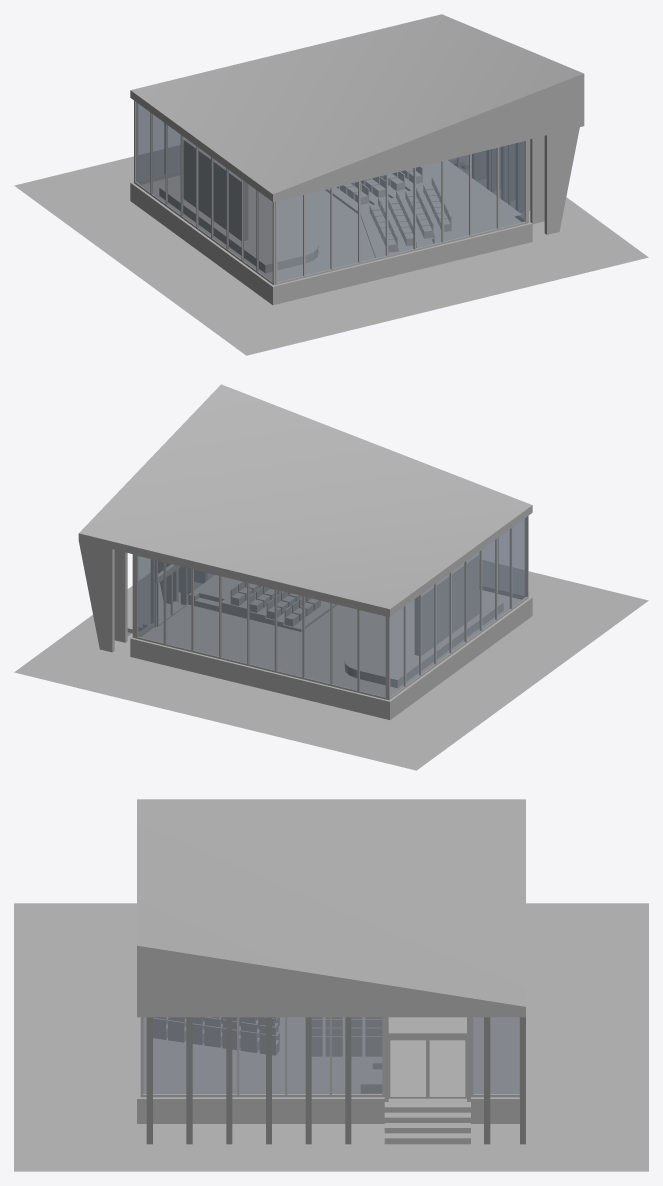
Rendered from LiveTeachExampleClassRoom.glb.
The picture shows the model from 3 angles, top to bottom: view 1: azimuth 30°, elevation 25°; view 2: azimuth 150°, elevation 25°; view 3: azimuth 270°, elevation 25°; orthographic projection. The views are drawn at different scales.
Visible parts, largest first — view 1: pCube185, pPlane1, TeachingRoomExampleGlass, polySurface879, TeachingRoomExampleWindowFrames, pCube194, TeachingRoomExampleSeatingStage, TeachingRoomExampleStage, TeachingRoomExampleScreen; view 2: pCube185, pPlane1, TeachingRoomExampleGlass, polySurface879, TeachingRoomExampleWindowFrames, pCube194, TeachingRoomExampleStage, TeachingRoomExampleScreen, TeachingRoomExampleSeatingStage, pCube184; view 3: pCube185, pPlane1, TeachingRoomExampleGlass, polySurface879, TeachingRoomExampleSeatingStage, pCube194, pCube173, TeachingRoomExampleWindowFrames, pCube184.
Boxes of the visible parts, bbox=[...] form: pCube185: bbox=[130, 14, 584, 201]; pPlane1: bbox=[14, 145, 648, 355]; TeachingRoomExampleGlass: bbox=[135, 102, 525, 281]; polySurface879: bbox=[130, 172, 532, 305]; TeachingRoomExampleWindowFrames: bbox=[134, 100, 528, 285]; pCube194: bbox=[472, 127, 579, 234]; TeachingRoomExampleSeatingStage: bbox=[325, 160, 521, 257]; TeachingRoomExampleStage: bbox=[159, 182, 318, 273]; TeachingRoomExampleScreen: bbox=[183, 139, 248, 240]; pCube185: bbox=[78, 384, 532, 616]; pPlane1: bbox=[14, 560, 648, 770]; TeachingRoomExampleGlass: bbox=[137, 517, 527, 696]; polySurface879: bbox=[130, 587, 532, 719]; TeachingRoomExampleWindowFrames: bbox=[132, 516, 528, 700]; pCube194: bbox=[79, 541, 207, 652]; TeachingRoomExampleStage: bbox=[344, 597, 503, 688]; TeachingRoomExampleScreen: bbox=[414, 554, 479, 655]; TeachingRoomExampleSeatingStage: bbox=[188, 575, 337, 631]; pCube184: bbox=[151, 559, 187, 627]; pCube185: bbox=[137, 799, 525, 1017]; pPlane1: bbox=[14, 903, 648, 1171]; TeachingRoomExampleGlass: bbox=[143, 1017, 519, 1094]; polySurface879: bbox=[137, 1017, 519, 1123]; TeachingRoomExampleSeatingStage: bbox=[153, 1019, 382, 1093]; pCube194: bbox=[146, 1017, 525, 1144]; pCube173: bbox=[384, 1102, 470, 1144]; TeachingRoomExampleWindowFrames: bbox=[140, 1017, 519, 1098]; pCube184: bbox=[384, 1017, 470, 1101].
Size of what is drawn, in the model's own units: 32 by 11.83 by 32.
